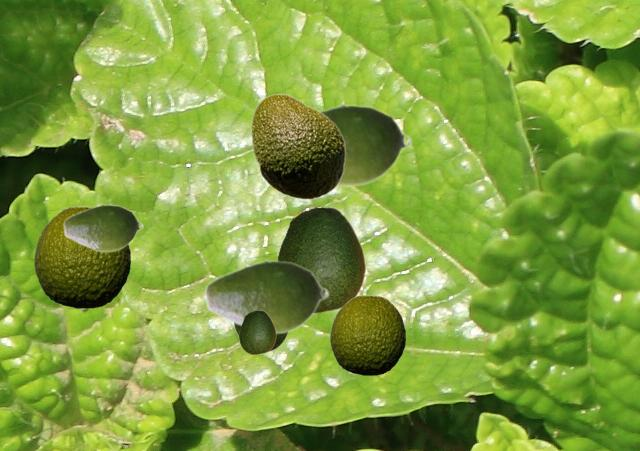avocado: (250, 93, 345, 199), (203, 258, 329, 335), (34, 206, 129, 307), (276, 206, 365, 312), (319, 102, 412, 187), (330, 295, 404, 374), (62, 203, 143, 252), (239, 310, 275, 353), (233, 325, 288, 351)
